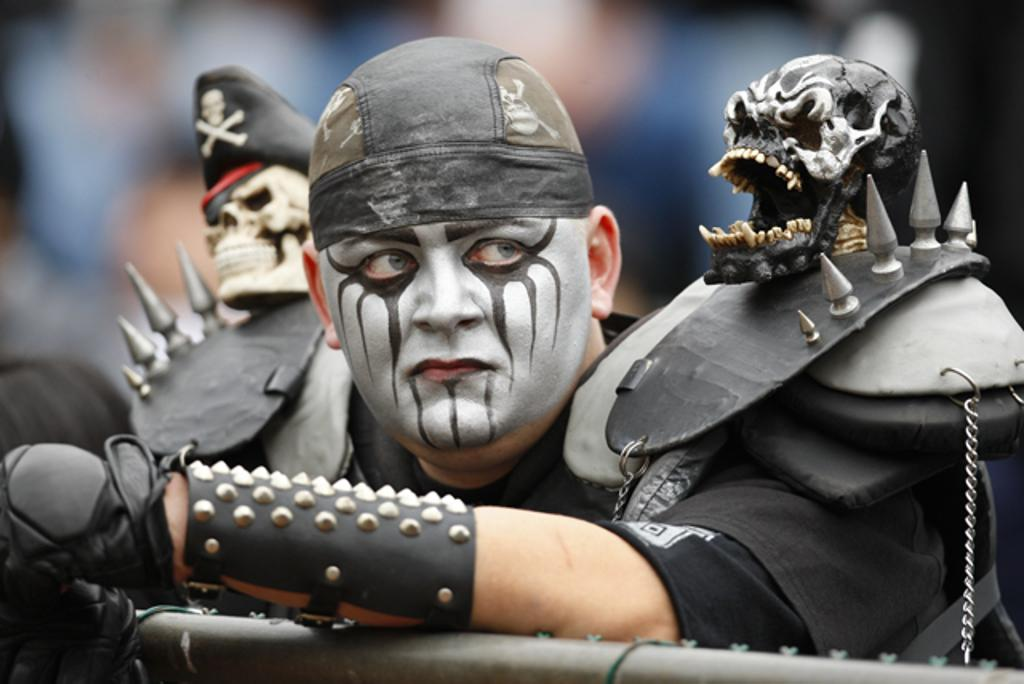face: (320, 190, 576, 448)
